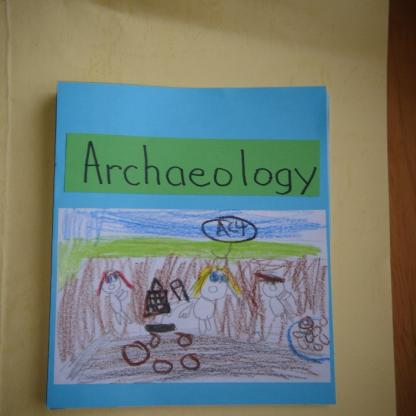book: (45, 81, 339, 410)
